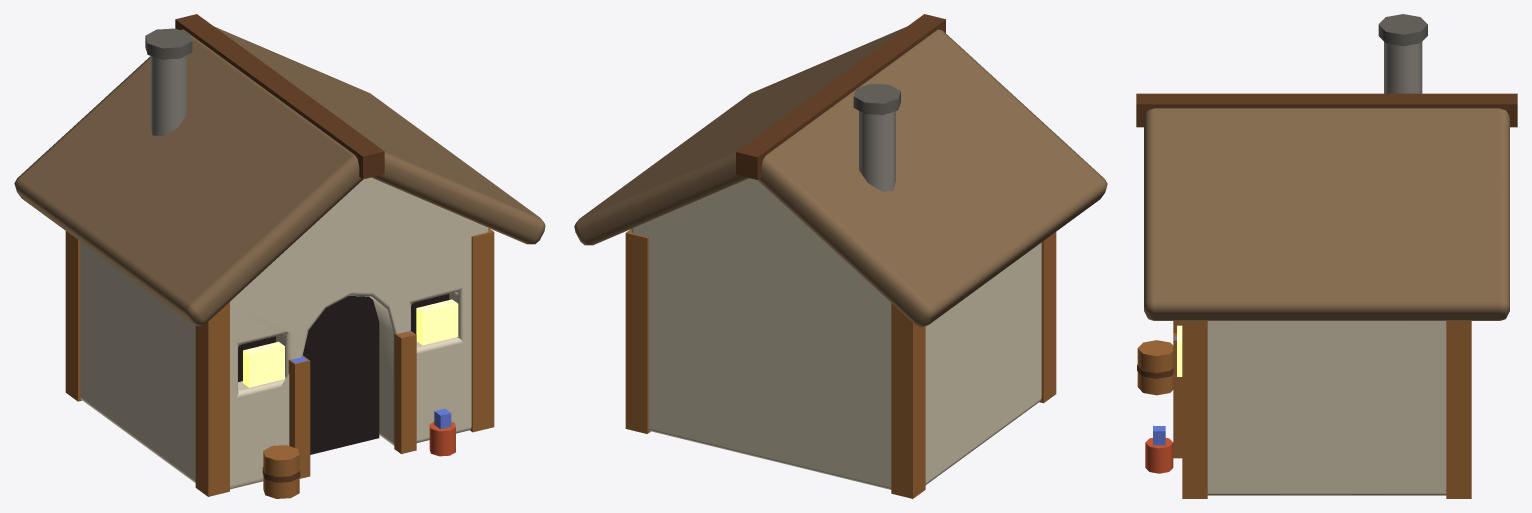
The model's file is Buildings__hut_b.glb.
3 renders of one model, left to right at view 1: azimuth 30°, elevation 25°; view 2: azimuth 150°, elevation 25°; view 3: azimuth 270°, elevation 25°, orthographic.
Visible parts, largest first — view 1: hut_b_mesh; view 2: hut_b_mesh; view 3: hut_b_mesh.
Part boxes in pixels (box(x1,y1,x2,y2)): hut_b_mesh: box(14, 14, 545, 498); hut_b_mesh: box(574, 14, 1107, 498); hut_b_mesh: box(1136, 14, 1517, 498).
Bounding box in the file's own units: 1.65 × 1.6 × 1.5.
